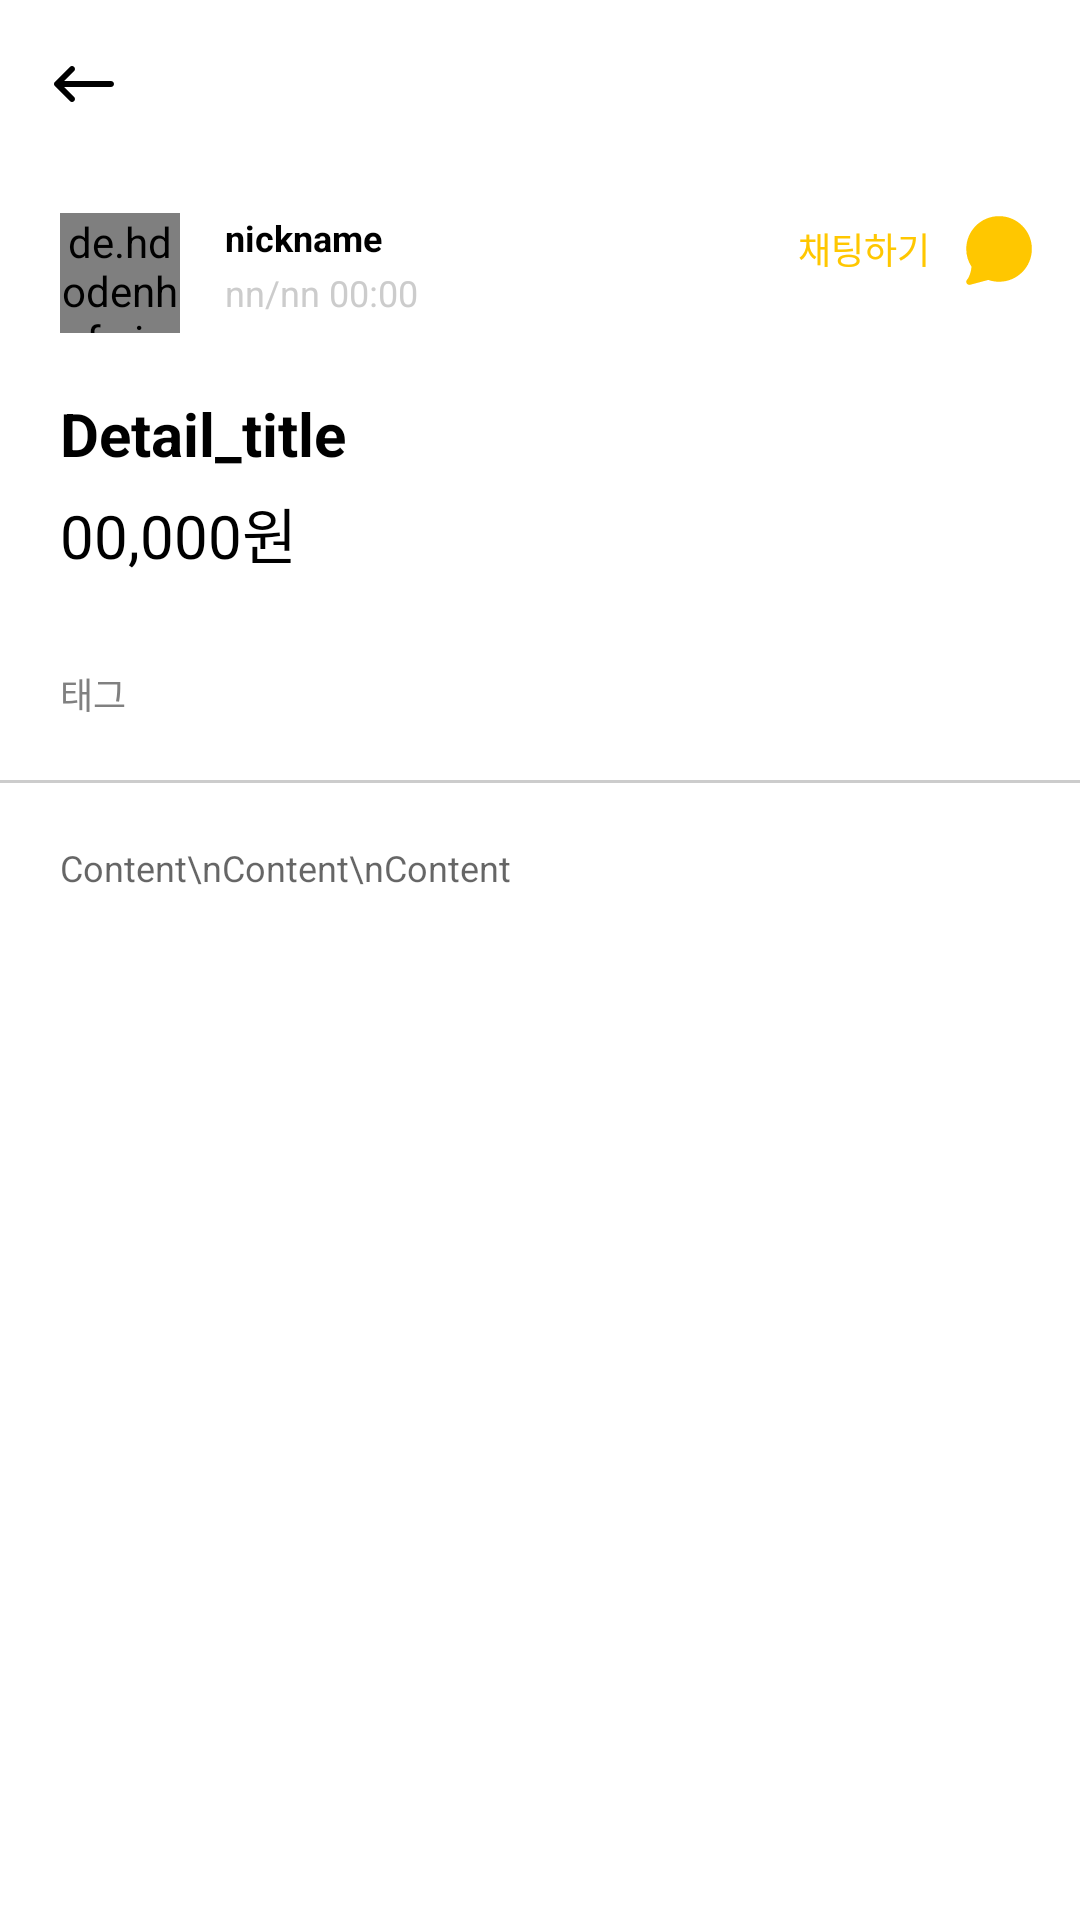

Named icons in this screenshot (1080 x 1920) and their centers, (x,y):
message: (999,250)
